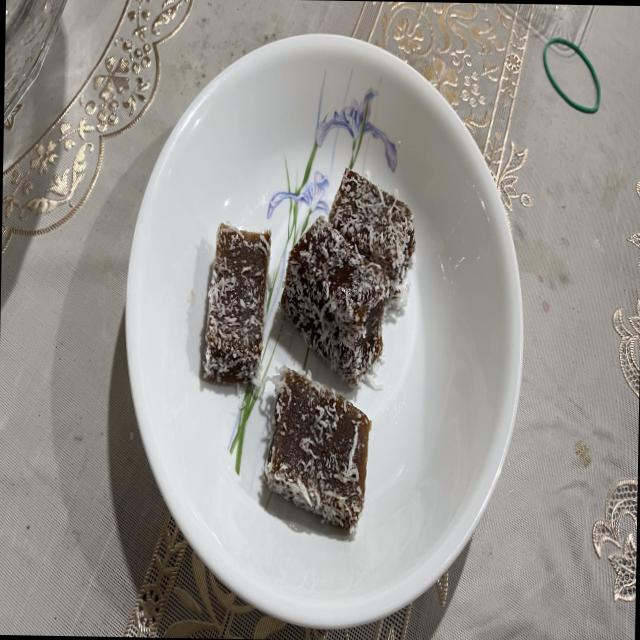kaswi: (280, 216, 389, 385), (264, 368, 371, 532), (328, 167, 415, 295), (203, 223, 270, 383)
